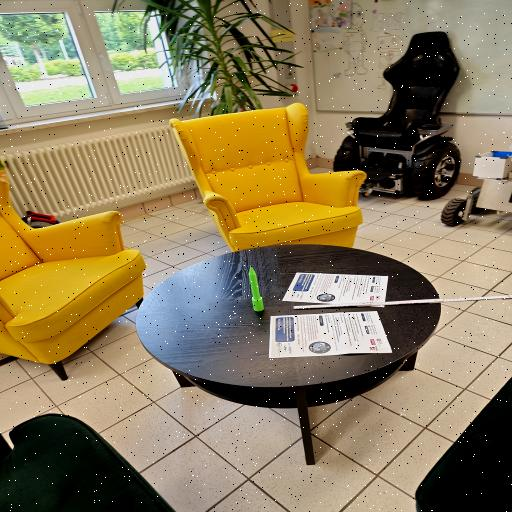Probe-Detection: (249, 265, 264, 311)
